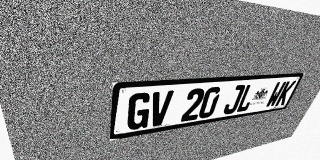0: (197, 86, 222, 119)
2: (181, 88, 206, 122)
G: (126, 92, 153, 131)
J: (222, 85, 246, 115)
K: (274, 81, 296, 106)
L: (235, 84, 259, 113)
V: (148, 90, 174, 127)
W: (264, 81, 287, 108)
